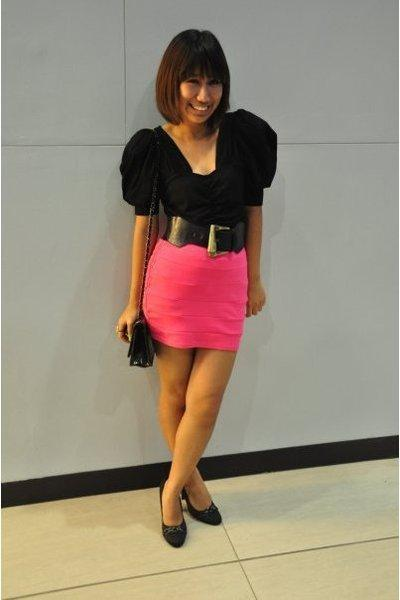bag: (119, 303, 160, 367)
shirt: (120, 109, 276, 227)
shoe: (159, 492, 221, 547)
skirt: (143, 238, 247, 356)
